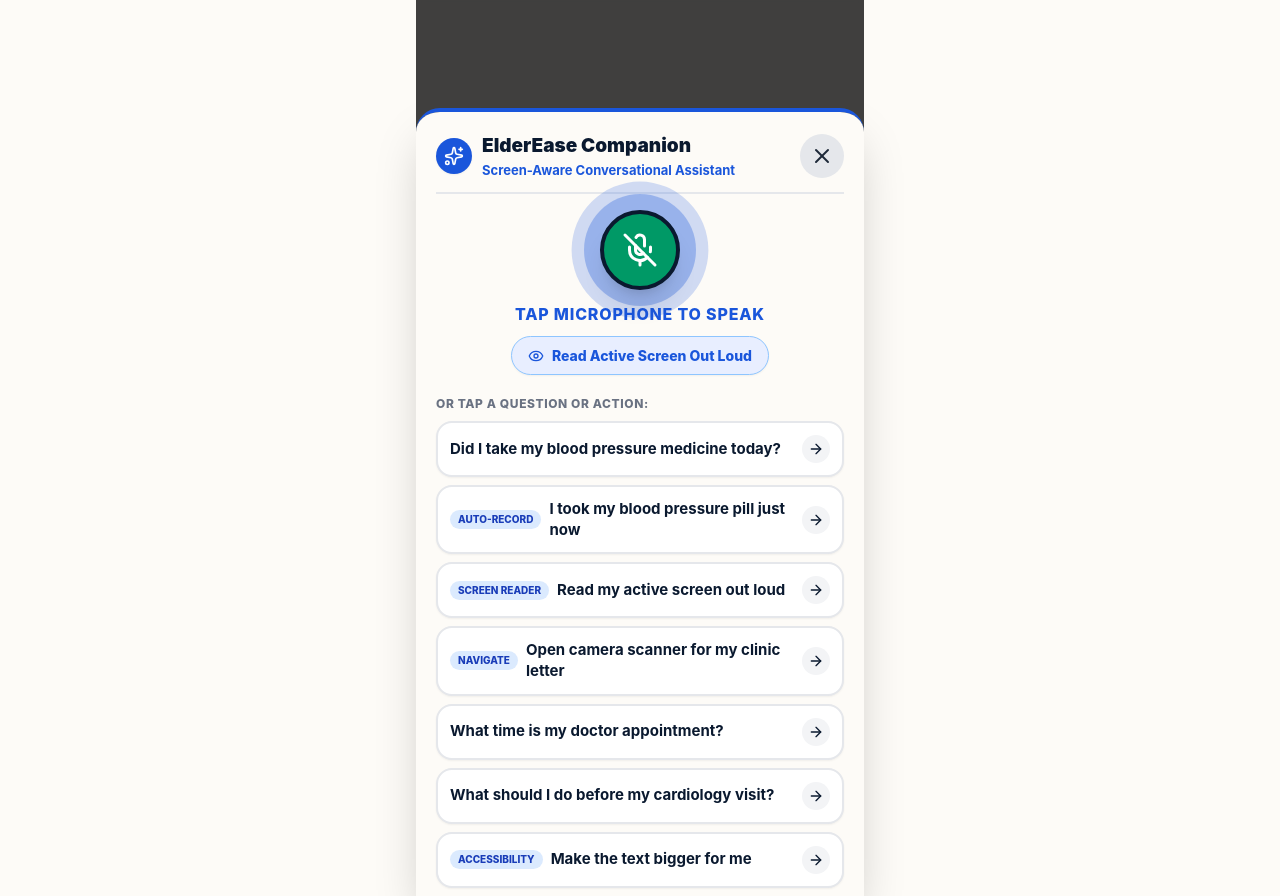
it: AICompanionOverlay Component › reads active screen aloud when Read Screen button is tapped
Click the button "Read Active Screen Out Loud". click: x=640, y=356
box: [511,336,769,375]
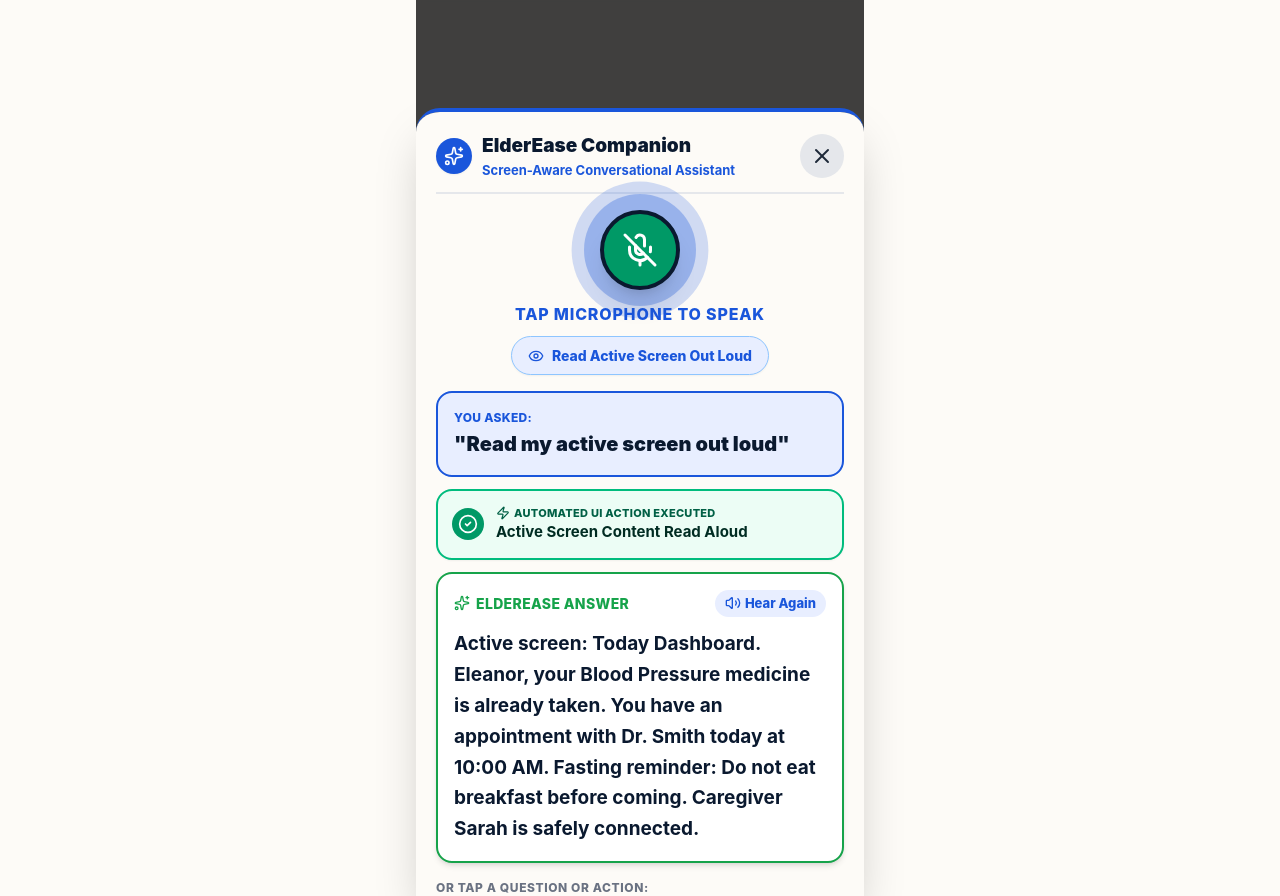
Expected: the text "Active Screen Content Read Aloud" is shown, [496,521,748,544]
Expected: the text "Active screen: Today Dashboard" is shown, [454,632,816,840]
